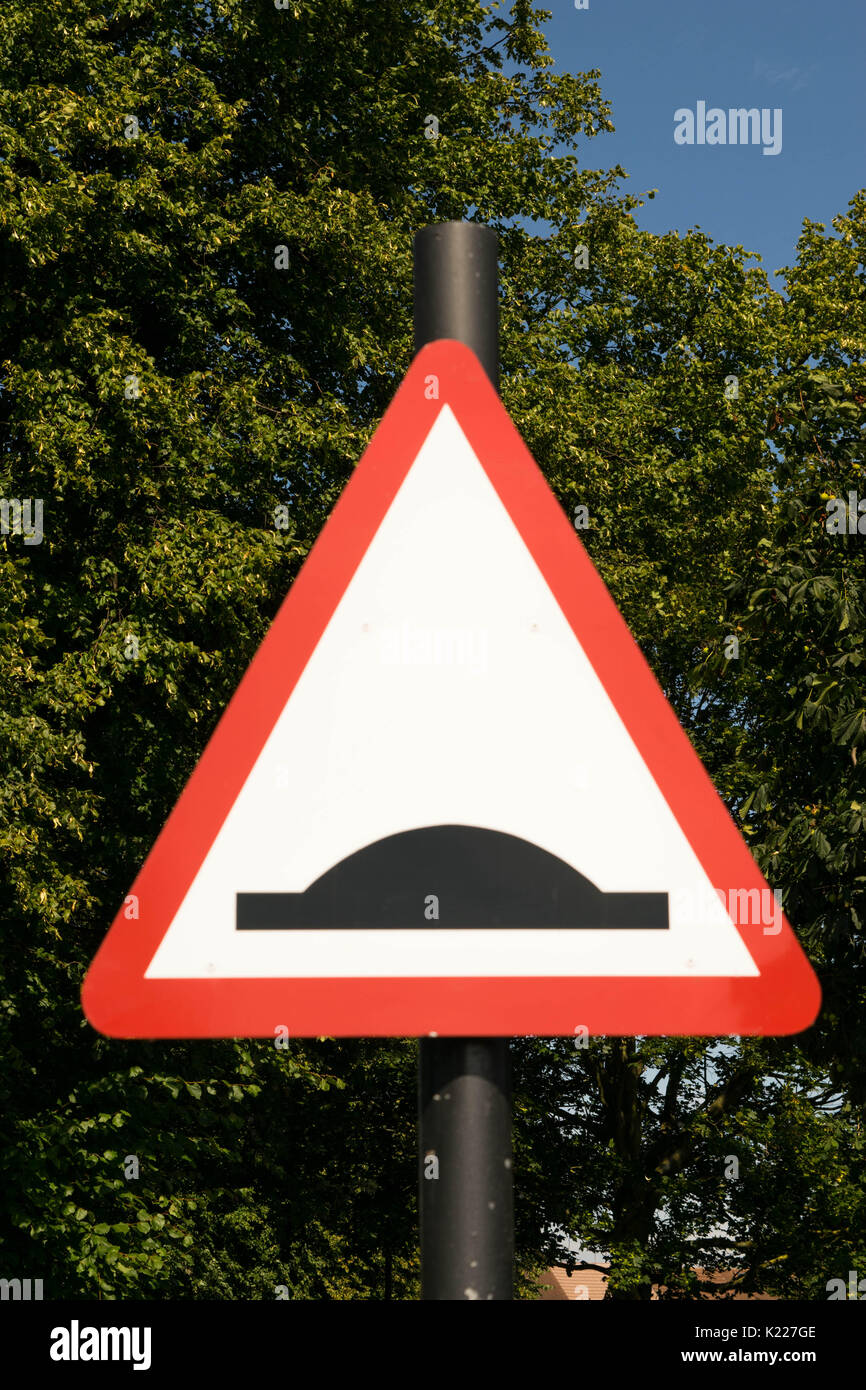speed-breaker: (142, 406, 770, 996)
